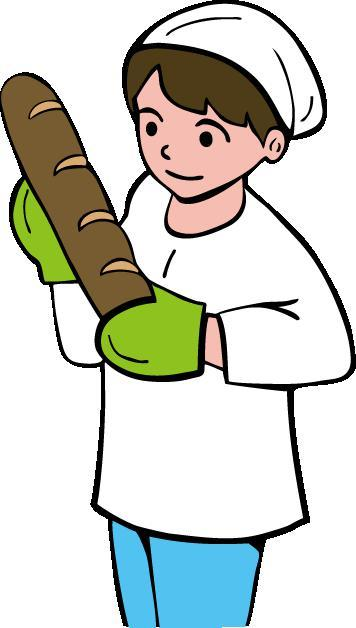person: (7, 1, 356, 627)
